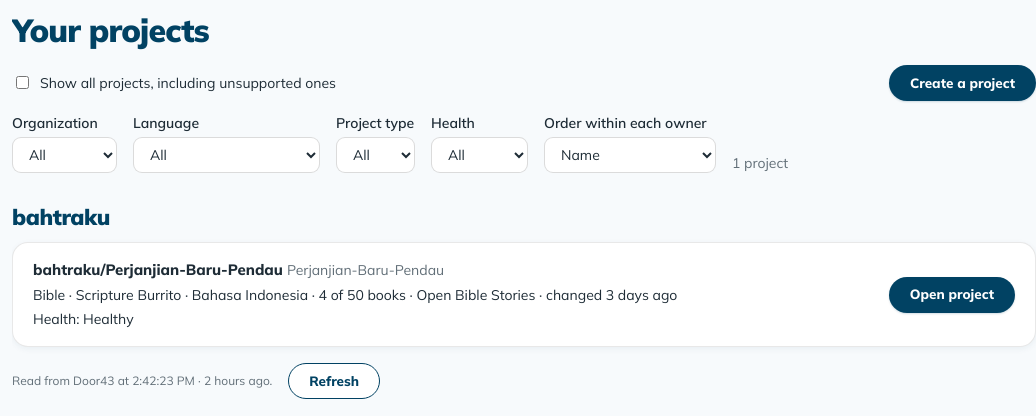
Test: the portfolio refreshes › P3: "Refresh" reads portfolio.list again, and the list shows its age
The width and height of the screenshot is (1036, 416).
Expected: the text "Read from Door43 at 2:42:23 PM · 2 hours ago." is shown, x1=12 y1=372 x2=272 y2=389
Click the button "Refresh": (334, 381) x1=288 y1=363 x2=380 y2=399
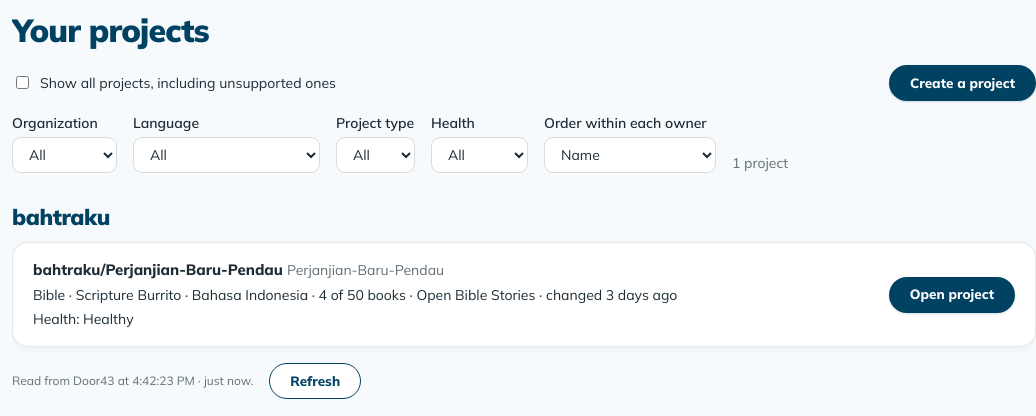
Expected: the text "Read from Door43 at 4:42:23 PM · just now." is shown, x1=12 y1=372 x2=253 y2=389
